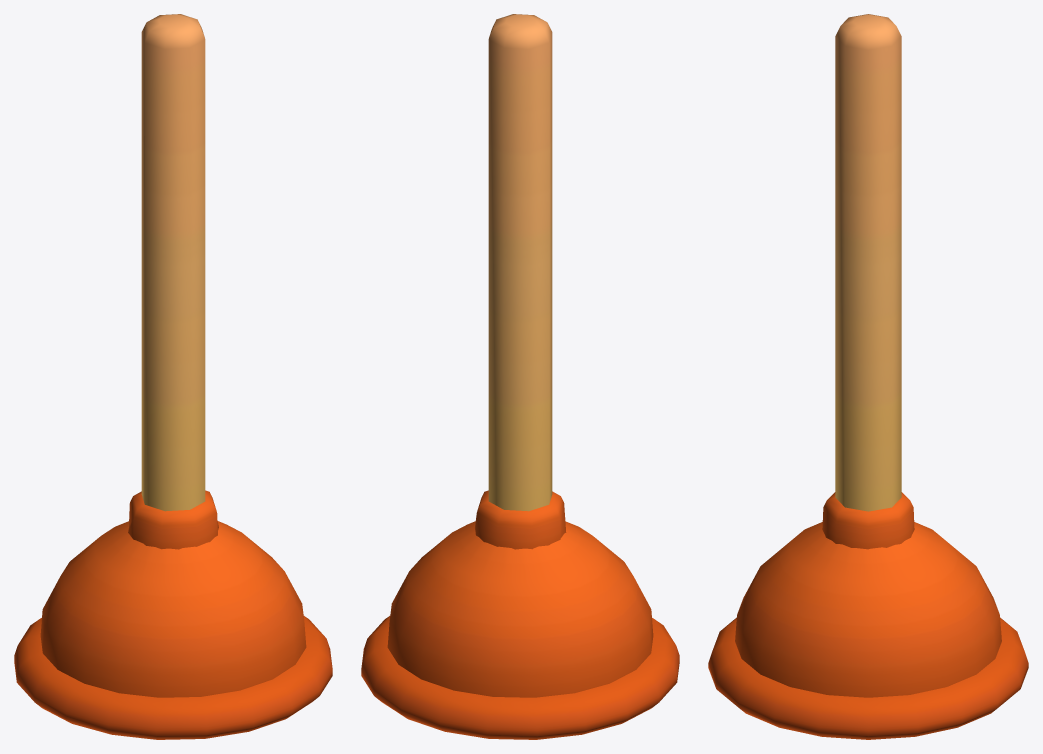
File: Plunger_01.glb
3 views of the same model, side by side, from view 1: azimuth 30°, elevation 25°; view 2: azimuth 150°, elevation 25°; view 3: azimuth 270°, elevation 25° (orthographic).
Parts seen in each view (by area): view 1: Plunger_01; view 2: Plunger_01; view 3: Plunger_01.
Boxes of the visible parts, x1=… form: Plunger_01: x1=14, y1=14, x2=332, y2=739; Plunger_01: x1=361, y1=14, x2=679, y2=739; Plunger_01: x1=708, y1=14, x2=1028, y2=739.
Bounding box in the file's own units: 0.2323 × 0.5242 × 0.2323.
1 material, 1 textured.
